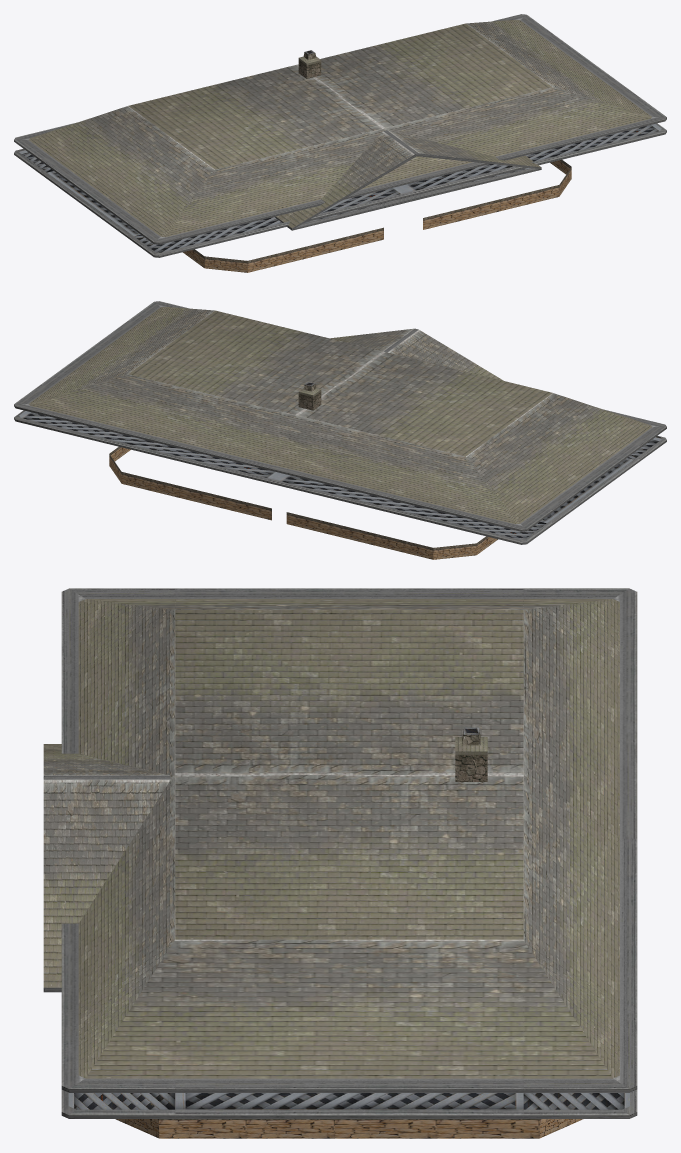
Rendered from rural_woodenbuilding_4_rural_housetrim_1_0.glb.
3 renders of one model, top to bottom at view 1: azimuth 30°, elevation 25°; view 2: azimuth 150°, elevation 25°; view 3: azimuth 270°, elevation 25°, orthographic. The views are drawn at different scales.
Parts seen in each view (by area): view 1: Rural_WoodenBuilding_4_Rural_Housetrim_1_0; view 2: Rural_WoodenBuilding_4_Rural_Housetrim_1_0; view 3: Rural_WoodenBuilding_4_Rural_Housetrim_1_0.
Part boxes in pixels (bbox=[...]): Rural_WoodenBuilding_4_Rural_Housetrim_1_0: bbox=[14, 14, 666, 272]; Rural_WoodenBuilding_4_Rural_Housetrim_1_0: bbox=[14, 301, 666, 559]; Rural_WoodenBuilding_4_Rural_Housetrim_1_0: bbox=[43, 588, 637, 1138].
Size of the model in its own units: 20.54 by 4.37 by 10.29.
1 material, 1 textured.
